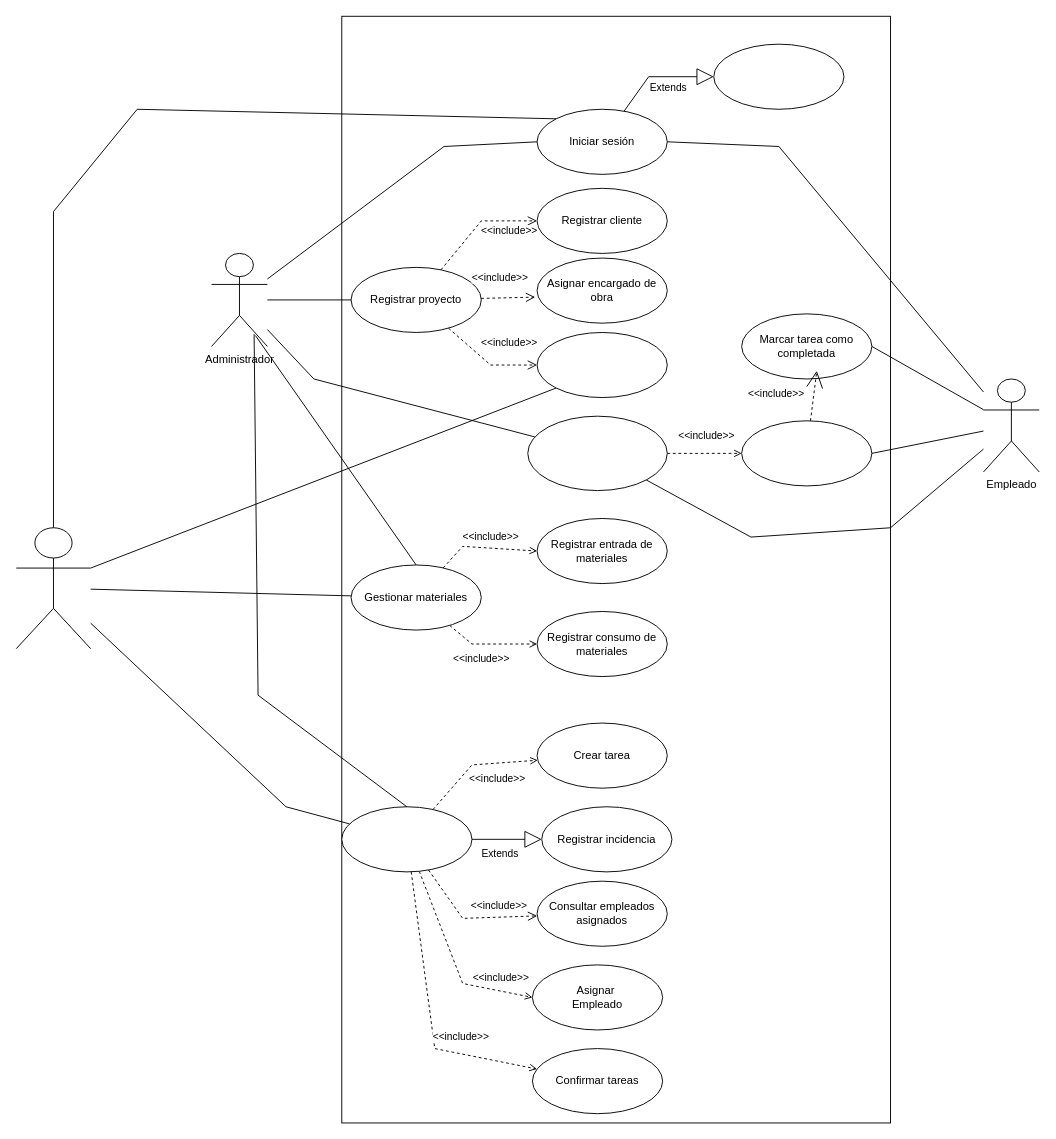
Some shapes in this 1056 by 1139 pixel diagram are drawn without their labels. The box of each missing label's shape, as (x1, y1, x2, y2) in pixels:
Asignar empleados: (536, 332, 667, 398)
Consultar Proyecto: (341, 806, 472, 872)
Recuperar Contraseña: (713, 43, 844, 109)
SDSP - Sistema de Documentación y Seguimiento de Proyectos: (341, 15, 890, 1123)
Supervisor: (15, 527, 91, 649)
Ver progreso del proyecto: (527, 415, 667, 491)
Ver tareas Asignadas: (741, 420, 872, 486)
